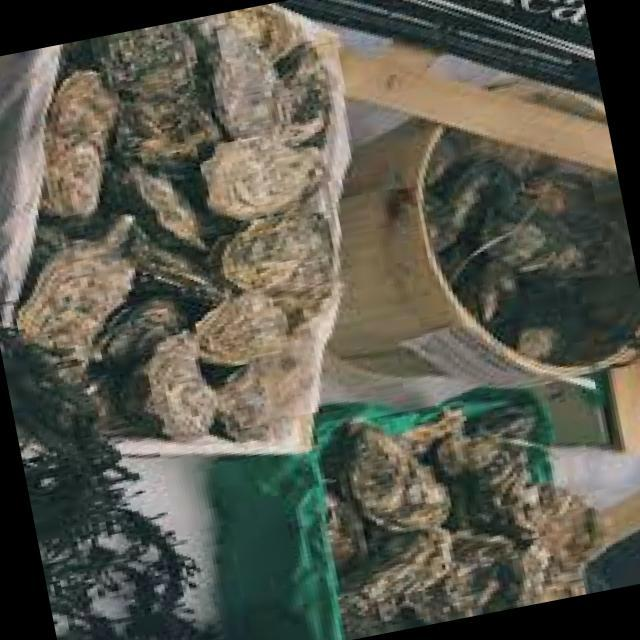Oyster-Closed: (18, 215, 135, 381), (201, 6, 325, 147), (216, 330, 325, 451), (89, 286, 204, 396), (221, 209, 338, 317), (342, 528, 454, 637), (121, 216, 230, 326), (430, 430, 539, 537), (88, 22, 198, 128), (42, 70, 118, 216), (411, 530, 524, 623), (201, 136, 324, 219), (350, 429, 448, 531), (110, 158, 216, 250), (521, 486, 602, 604), (118, 90, 224, 174), (196, 291, 305, 367), (148, 332, 216, 438), (328, 491, 361, 574)
